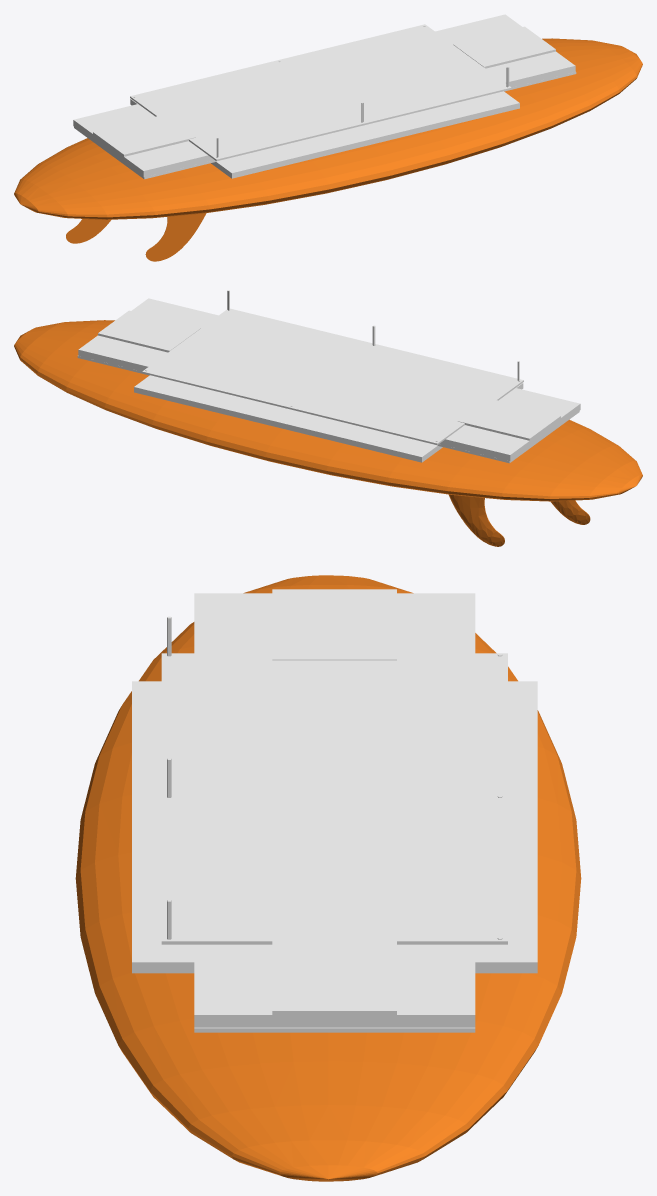
Rendered from surfboardLong.obj.
The picture shows the model from 3 angles, top to bottom: view 1: azimuth 30°, elevation 25°; view 2: azimuth 150°, elevation 25°; view 3: azimuth 270°, elevation 25°; orthographic projection. The views are drawn at different scales.
Visible parts, largest first — view 1: Object.1; view 2: Object.1; view 3: Object.1.
Part boxes in pixels (bbox=[...]): Object.1: bbox=[14, 14, 642, 261]; Object.1: bbox=[14, 290, 642, 546]; Object.1: bbox=[75, 575, 581, 1181].
Size of the model in its own units: 228 by 42.59 by 81.
